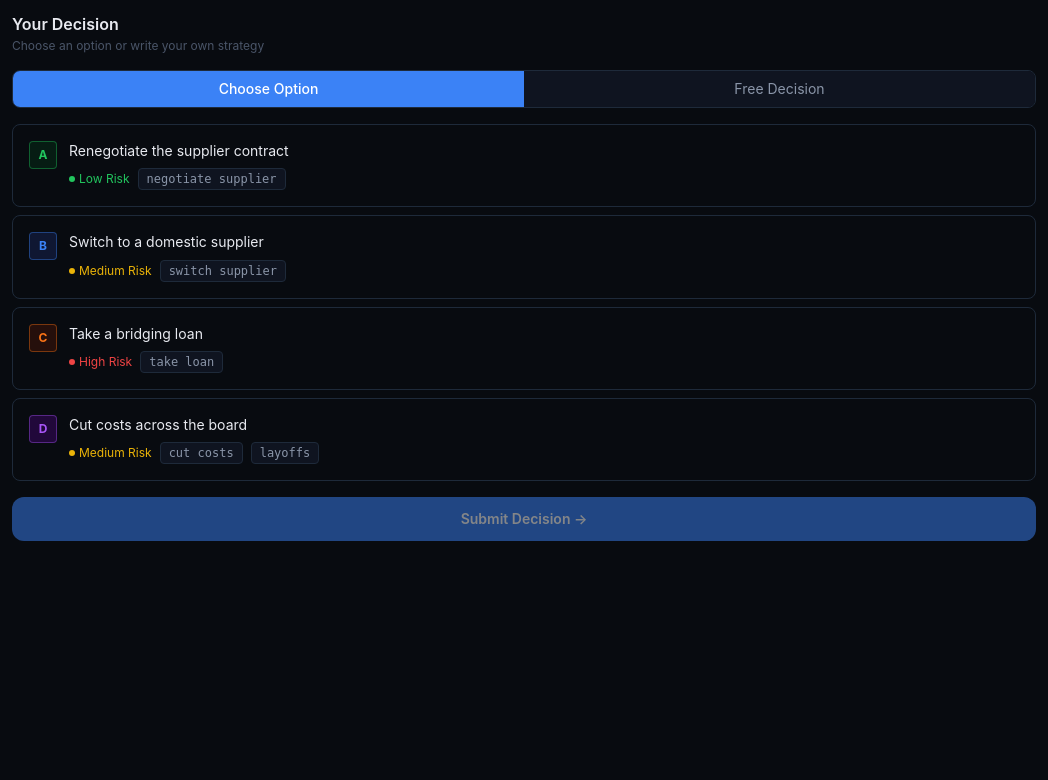
DecisionPanel — writing a decision › offers a text area and a character counter
Click the button "Free Decision".
click(780, 89)  # box 524,71 -> 1035,107
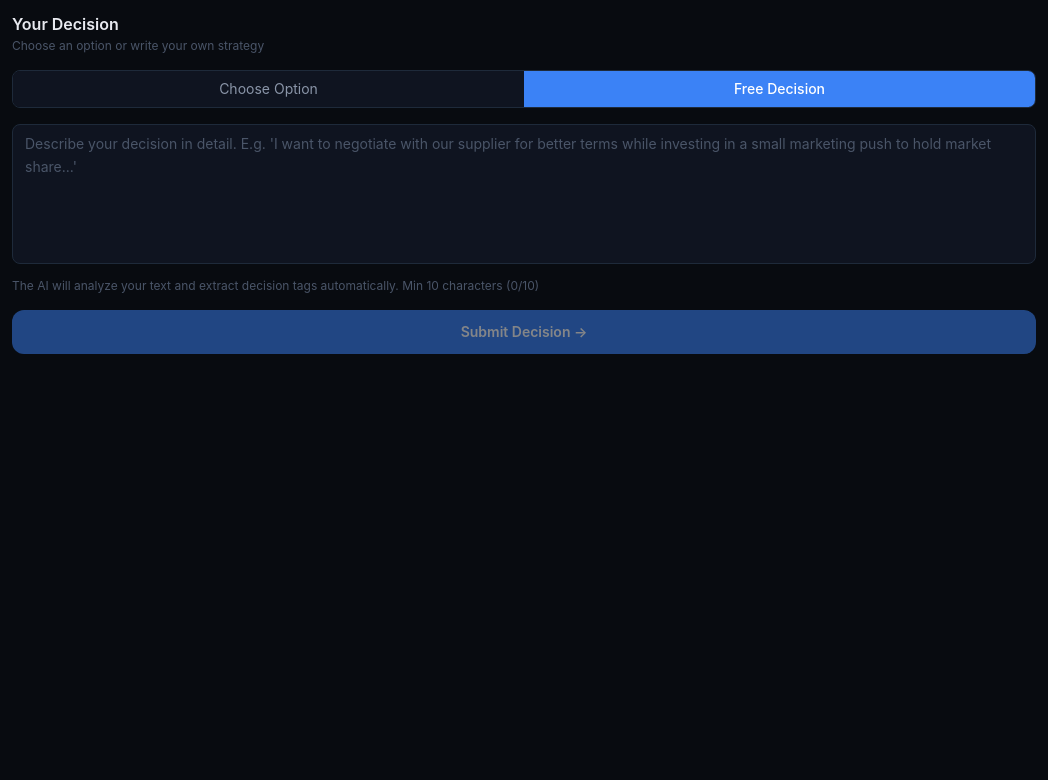
Now the text box is shown, box 12,124 -> 1036,264
Now the text "Min 10 characters (0/10)" is shown, box 402,278 -> 539,293
